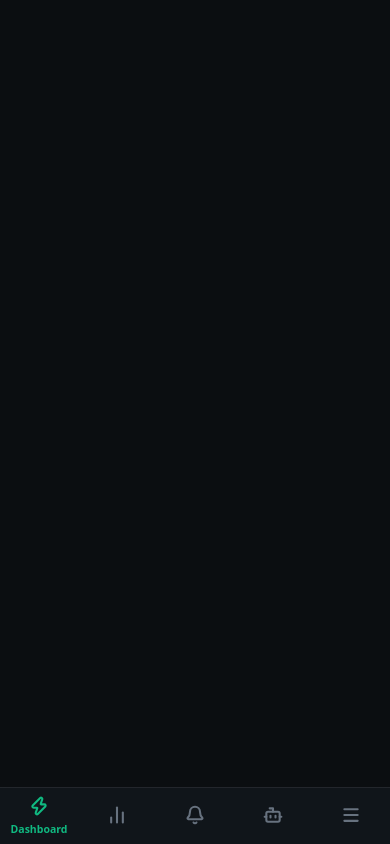
Test: Sidebar / BottomNav dynamic nav items › a saved custom view is reachable on mobile via the 'More' modal
The width and height of the screenshot is (390, 844).
Click the button with test id "more-nav-button". click: click(351, 816)
box: [312, 794, 389, 838]
(page scrolled)
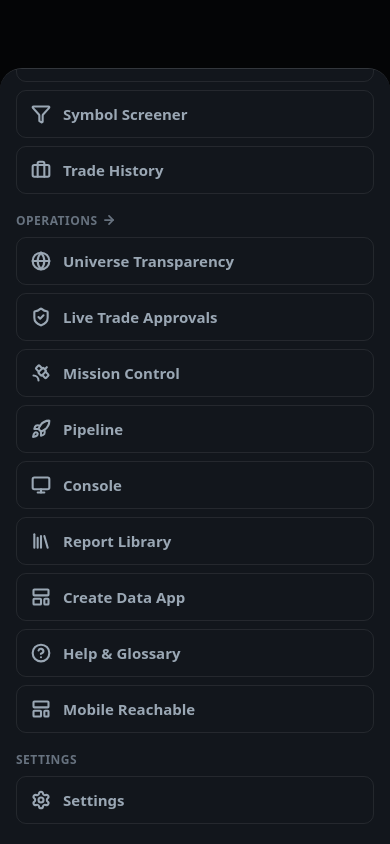
Expected: the text "Mobile Reachable" is shown, [63, 698, 195, 718]
